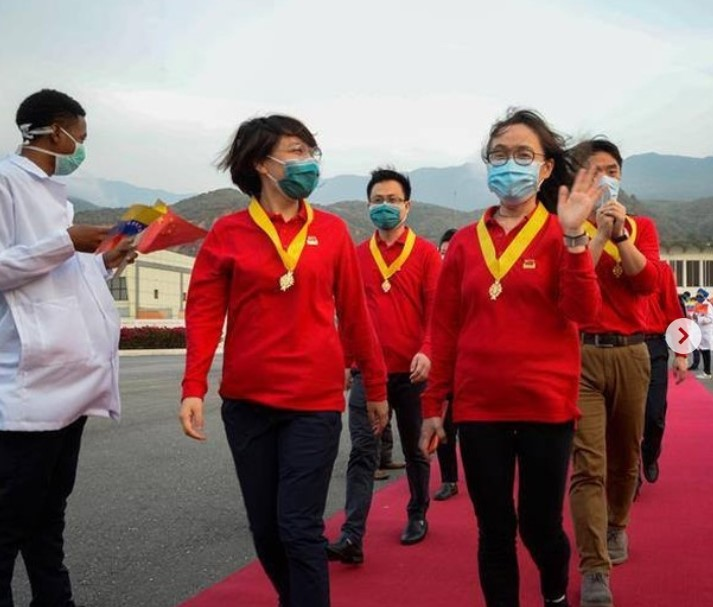face_with_mask: (242, 115, 323, 208), (13, 86, 88, 181), (481, 116, 557, 206), (575, 143, 625, 214), (361, 167, 413, 235)
